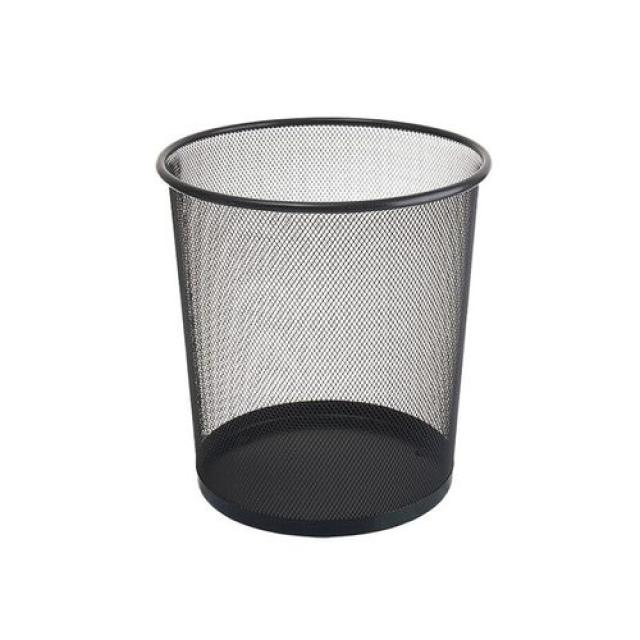dustbin: (150, 110, 493, 544)
